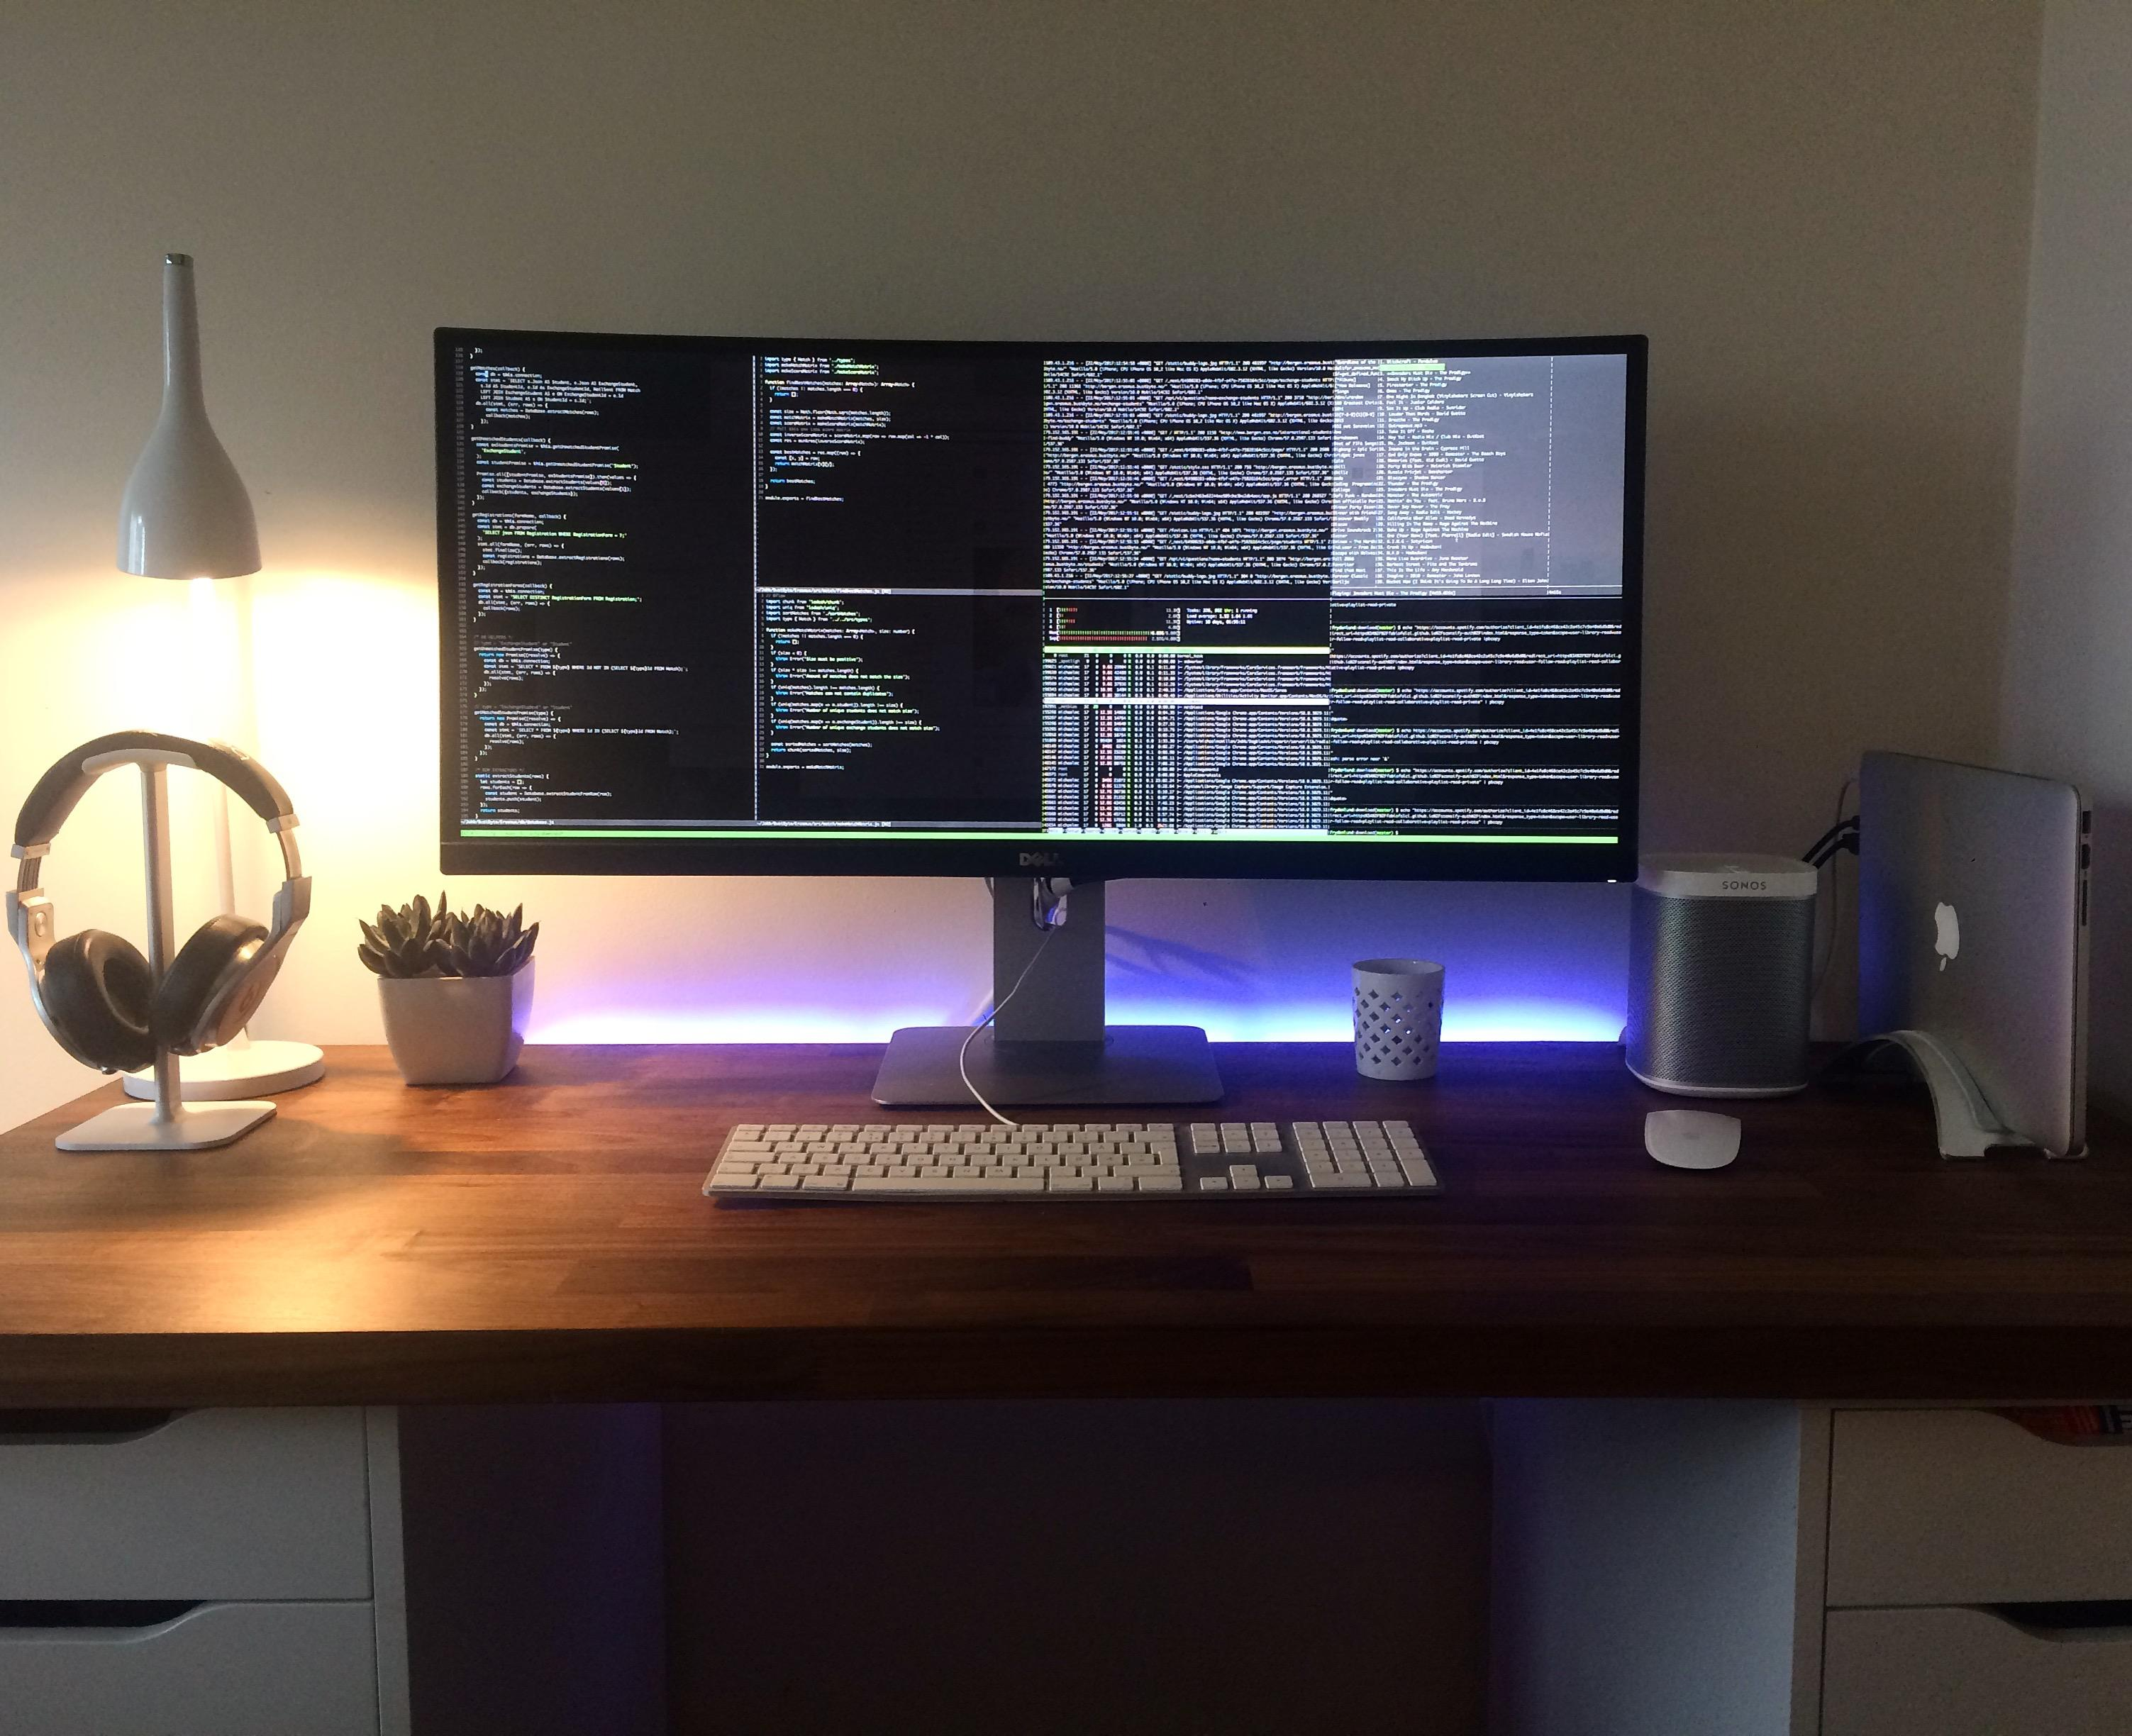Decoration (Plant): (349, 887, 542, 1087)
Desk (Generic): (4, 1039, 2130, 1732)
Headphones: (7, 724, 315, 1078)
IoT Devices (Raspberry, Arduino, etc): (1631, 825, 1815, 1108)
Keyboard (Generic): (698, 1115, 1441, 1203)
Lamp (Desk): (117, 237, 329, 1101)
Laptop (OSX): (1856, 747, 2097, 1159)
Laptop Stand: (1840, 1005, 2043, 1173)
Monitor (Landscape): (434, 326, 1650, 1115)
Mouse (Generic): (1640, 1108, 1741, 1173)
Storage Drawer: (0, 1398, 664, 1729), (1487, 1403, 2130, 1732)
